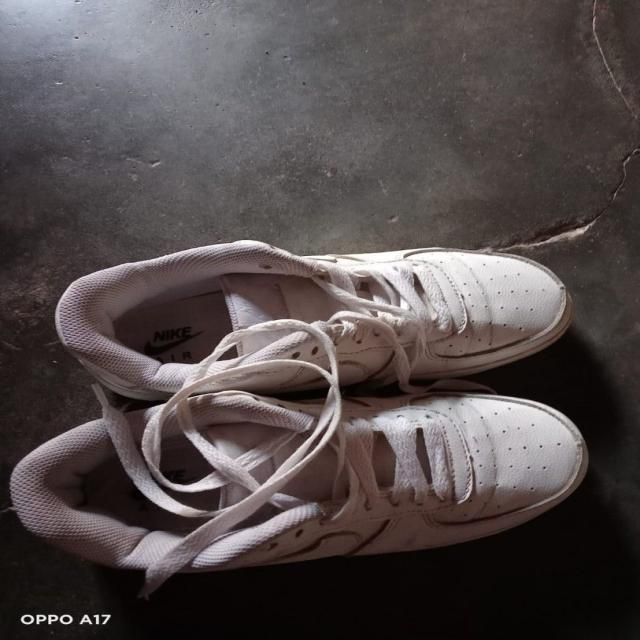nike fake air force: (11, 387, 596, 580), (53, 238, 591, 400)
